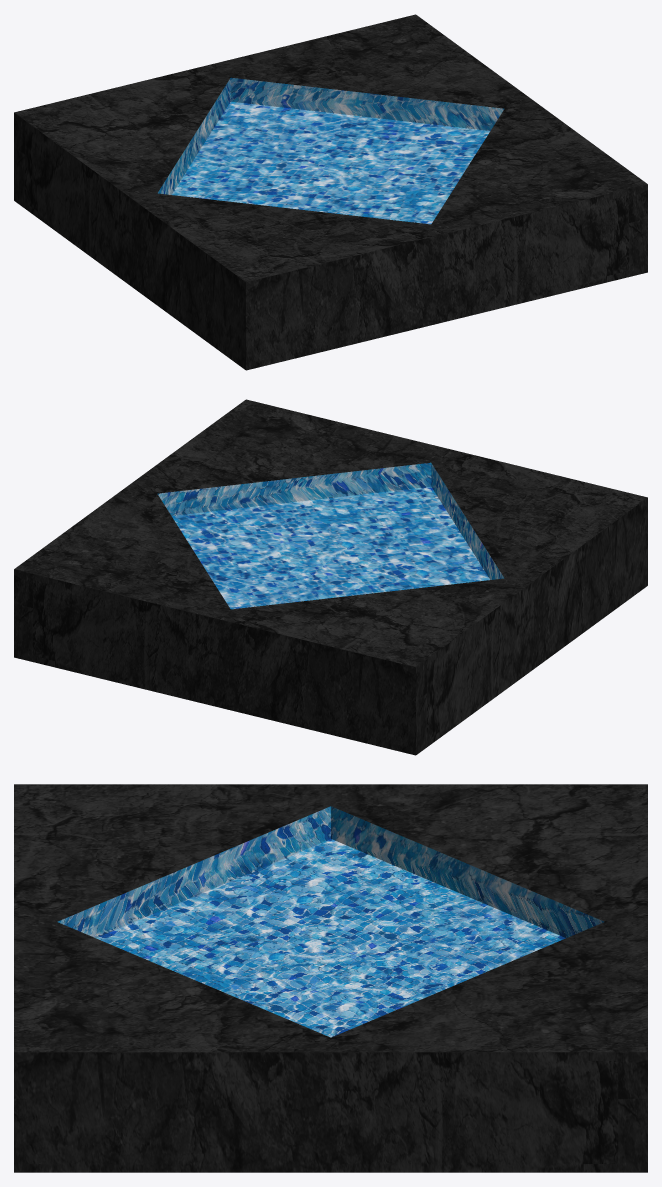
File: TowerPlacer.fbx
3 renders of one model, top to bottom at view 1: azimuth 30°, elevation 25°; view 2: azimuth 150°, elevation 25°; view 3: azimuth 270°, elevation 25°, orthographic. The views are drawn at different scales.
Visible parts, largest first — view 1: Tower placer; view 2: Tower placer; view 3: Tower placer.
Boxes of the visible parts, <box> form: Tower placer: <box>14,14,647,370</box>; Tower placer: <box>14,399,647,755</box>; Tower placer: <box>14,784,647,1172</box>.
Bounding box in the file's own units: 100 × 20.97 × 100.
2 materials, 2 textured.
